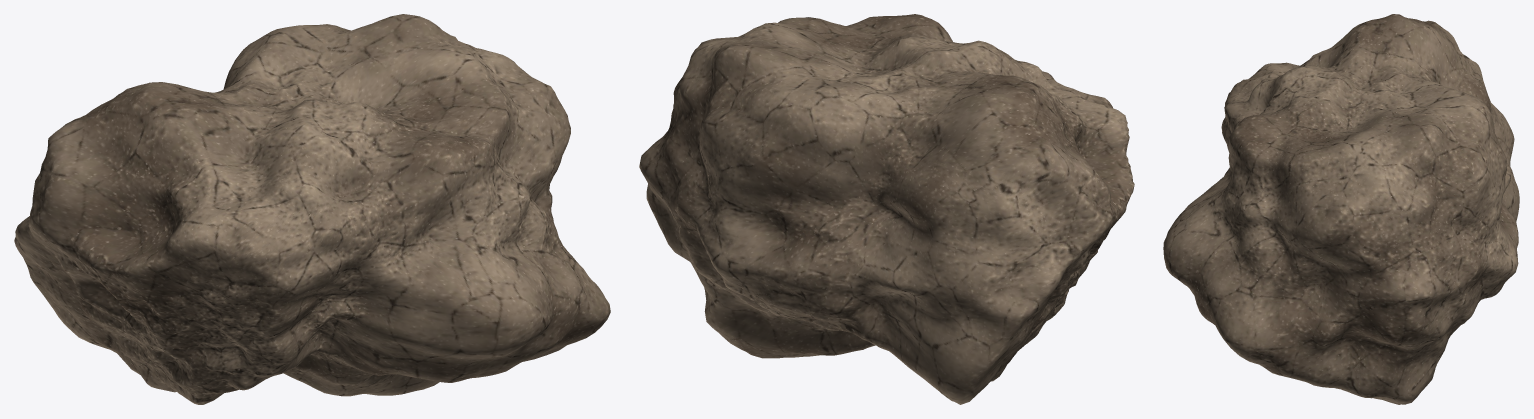
Rendered from asteroid-01.glb.
3 renders of one model, left to right at view 1: azimuth 30°, elevation 25°; view 2: azimuth 150°, elevation 25°; view 3: azimuth 270°, elevation 25°, orthographic. The views are drawn at different scales.
Parts seen in each view (by area): view 1: asteroid-01; view 2: asteroid-01; view 3: asteroid-01.
Boxes of the visible parts, x1,y1,x2,y2 form: asteroid-01: [14, 14, 610, 404]; asteroid-01: [639, 14, 1134, 404]; asteroid-01: [1163, 14, 1519, 404].
Bounding box in the file's own units: 2.74 × 1.83 × 2.11.
1 material, 1 textured.
